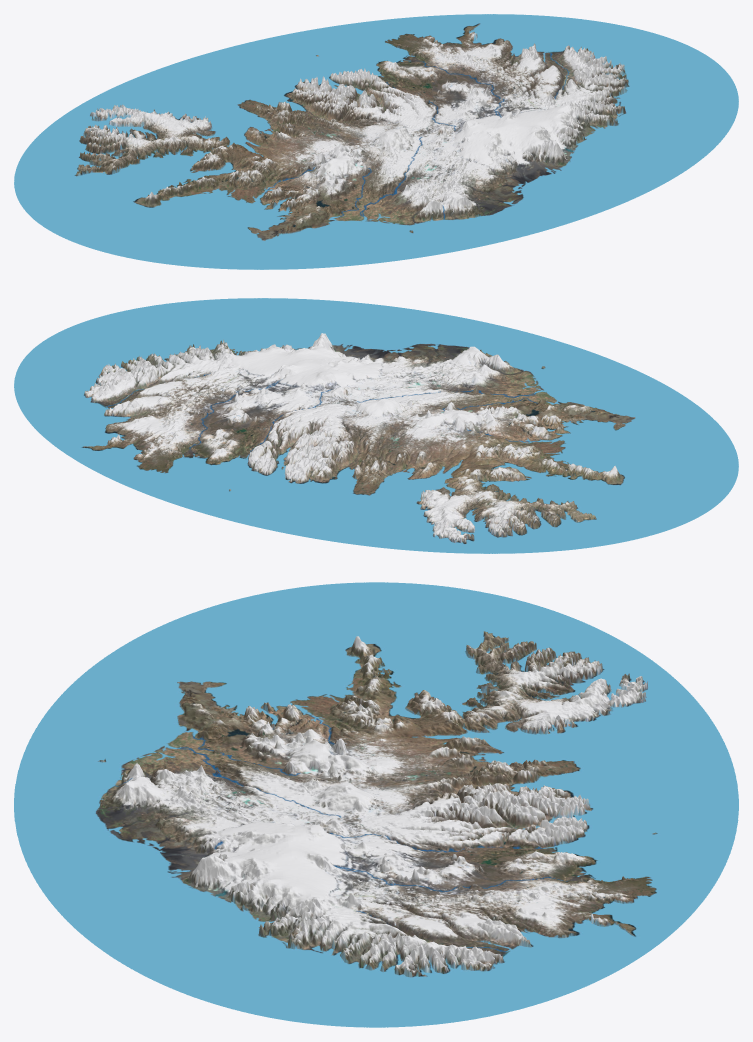
The model's file is ISL-previa-terrain.glb.
3 views of the same model, one above another, from view 1: azimuth 30°, elevation 25°; view 2: azimuth 150°, elevation 25°; view 3: azimuth 270°, elevation 25° (orthographic). The views are drawn at different scales.
Parts seen in each view (by area): view 1: Islândia; view 2: Islândia; view 3: Islândia.
Part boxes in pixels (x1,y1,x2,y2): Islândia: [14, 14, 738, 269]; Islândia: [14, 298, 738, 553]; Islândia: [14, 582, 738, 1027].
Size of the model in its own units: 2.24 by 0.0605 by 1.54.
Materials: 1 (1 with a texture image).
